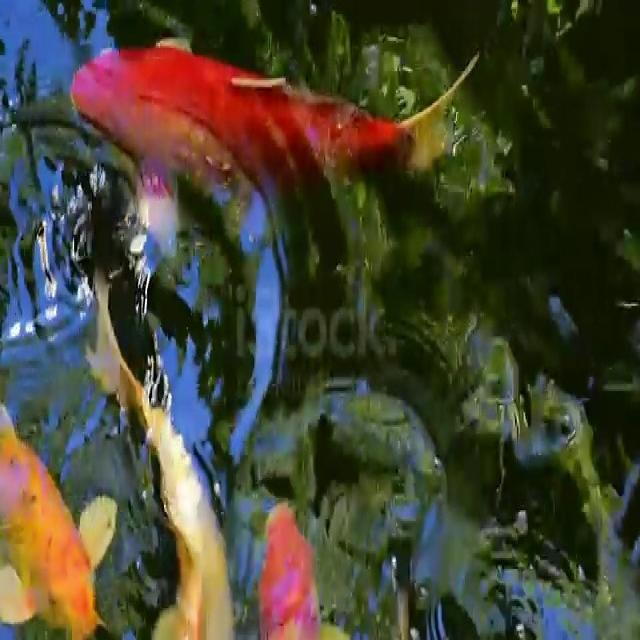fish: (59, 10, 482, 212), (69, 288, 245, 640), (0, 374, 132, 640), (241, 456, 351, 640)
